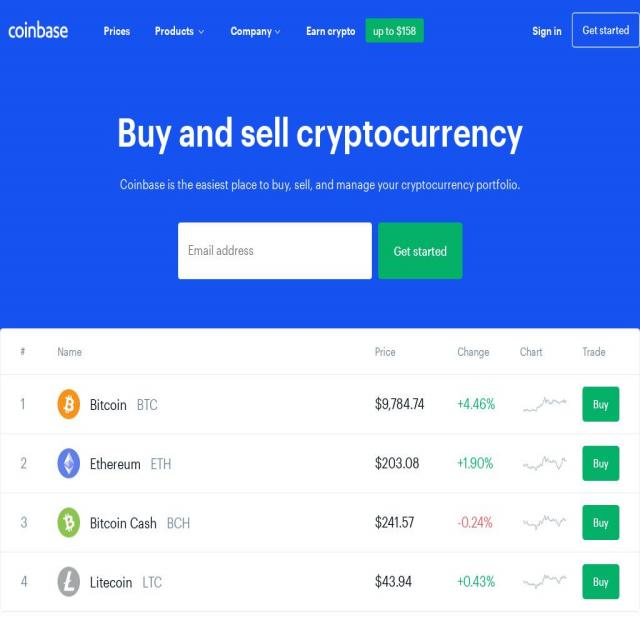buy-option: (576, 377, 636, 640)
list: (22, 373, 640, 640)
login-option: (529, 16, 566, 47)
navigation-links: (96, 5, 436, 70)
